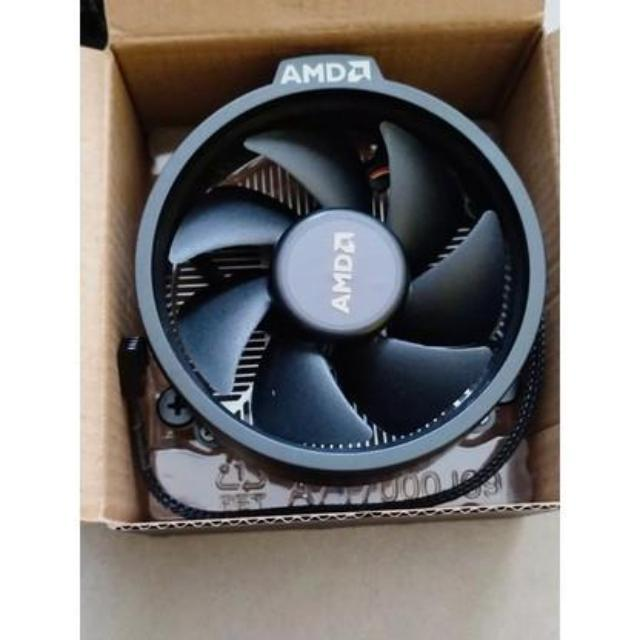CPU_Fan: (135, 54, 550, 471)
